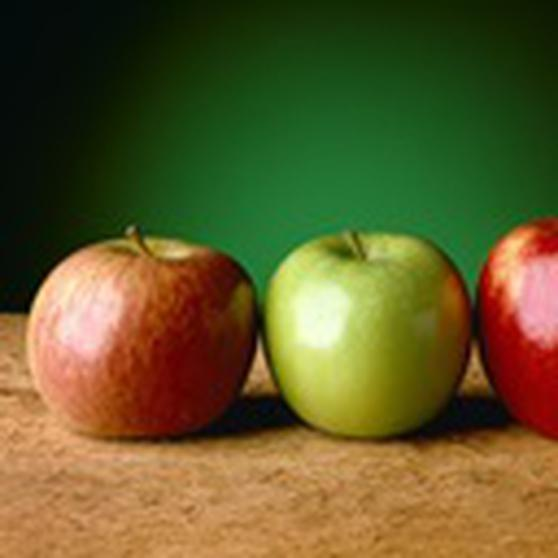apple: (255, 218, 479, 442)
